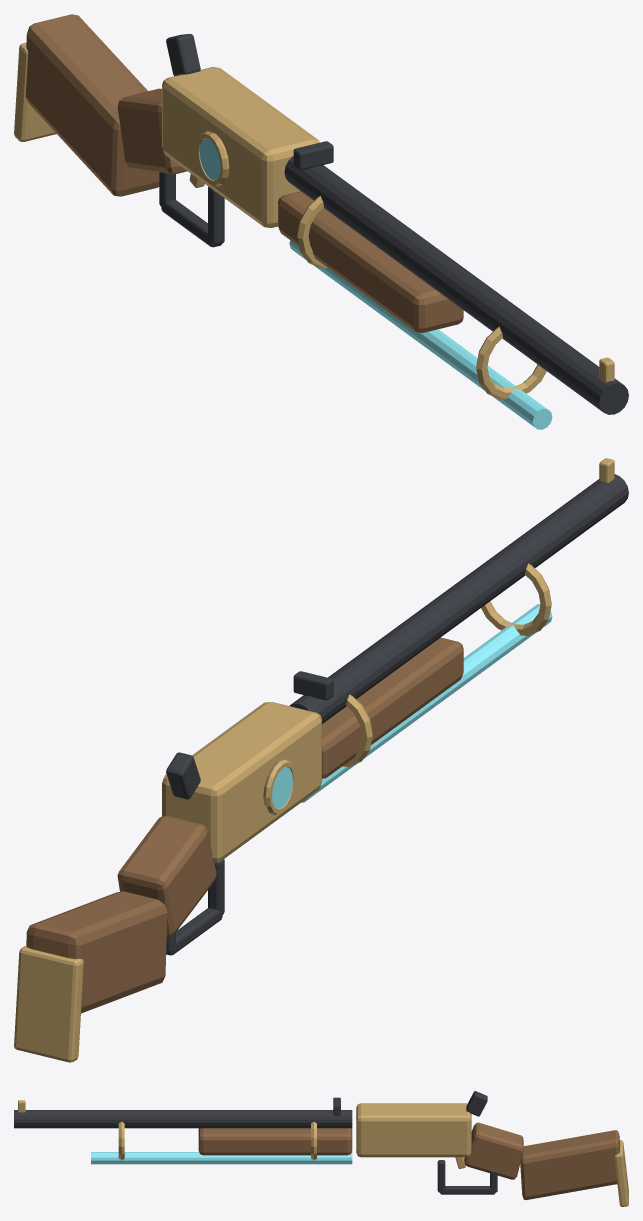
Rendered from Fusil_Repetition.fbx.
The picture shows the model from 3 angles, top to bottom: view 1: azimuth 30°, elevation 25°; view 2: azimuth 150°, elevation 25°; view 3: azimuth 270°, elevation 25°; orthographic projection. The views are drawn at different scales.
Visible parts, largest first — view 1: Fusil_Repetition_Bois, Fusil_Repetition_Laiton, Fusil_Repetition_Metal, Fusil_Repetition_Noyau; view 2: Fusil_Repetition_Bois, Fusil_Repetition_Laiton, Fusil_Repetition_Metal, Fusil_Repetition_Noyau; view 3: Fusil_Repetition_Bois, Fusil_Repetition_Metal, Fusil_Repetition_Laiton, Fusil_Repetition_Noyau.
Part boxes in pixels (left/top/right/bottom): Fusil_Repetition_Bois: left=25, top=14, right=463, bottom=332; Fusil_Repetition_Laiton: left=14, top=43, right=614, bottom=399; Fusil_Repetition_Metal: left=159, top=34, right=628, bottom=414; Fusil_Repetition_Noyau: left=199, top=138, right=552, bottom=429; Fusil_Repetition_Bois: left=26, top=637, right=463, bottom=1013; Fusil_Repetition_Laiton: left=14, top=458, right=614, bottom=1062; Fusil_Repetition_Metal: left=166, top=474, right=628, bottom=955; Fusil_Repetition_Noyau: left=272, top=604, right=552, bottom=808; Fusil_Repetition_Bois: left=198, top=1122, right=619, bottom=1199; Fusil_Repetition_Metal: left=14, top=1091, right=497, bottom=1194; Fusil_Repetition_Laiton: left=18, top=1100, right=628, bottom=1206; Fusil_Repetition_Noyau: left=91, top=1152, right=352, bottom=1164.
Bounding box in the file's own units: 30.4 × 77.04 × 400.
